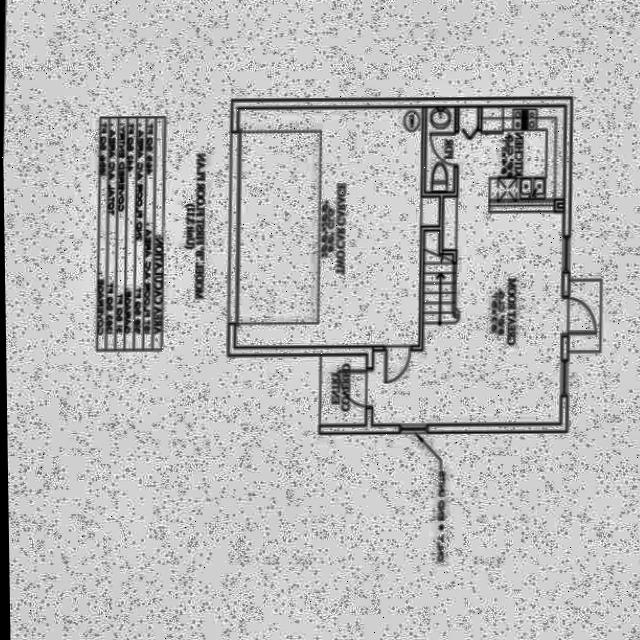room: (363, 107, 566, 425), (233, 106, 418, 348), (318, 355, 363, 425), (422, 107, 450, 192)
